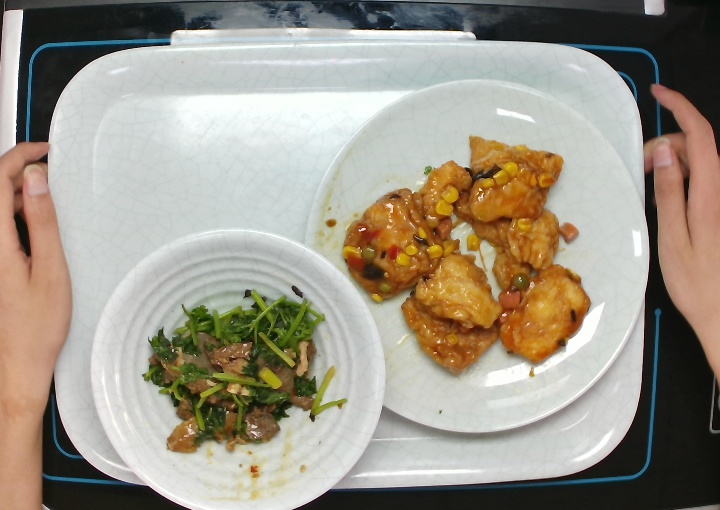JYsf-Da_Yuan_Pan: (298, 76, 655, 437)
JYsf-Xiao_Tang_Wan: (87, 226, 388, 510)
